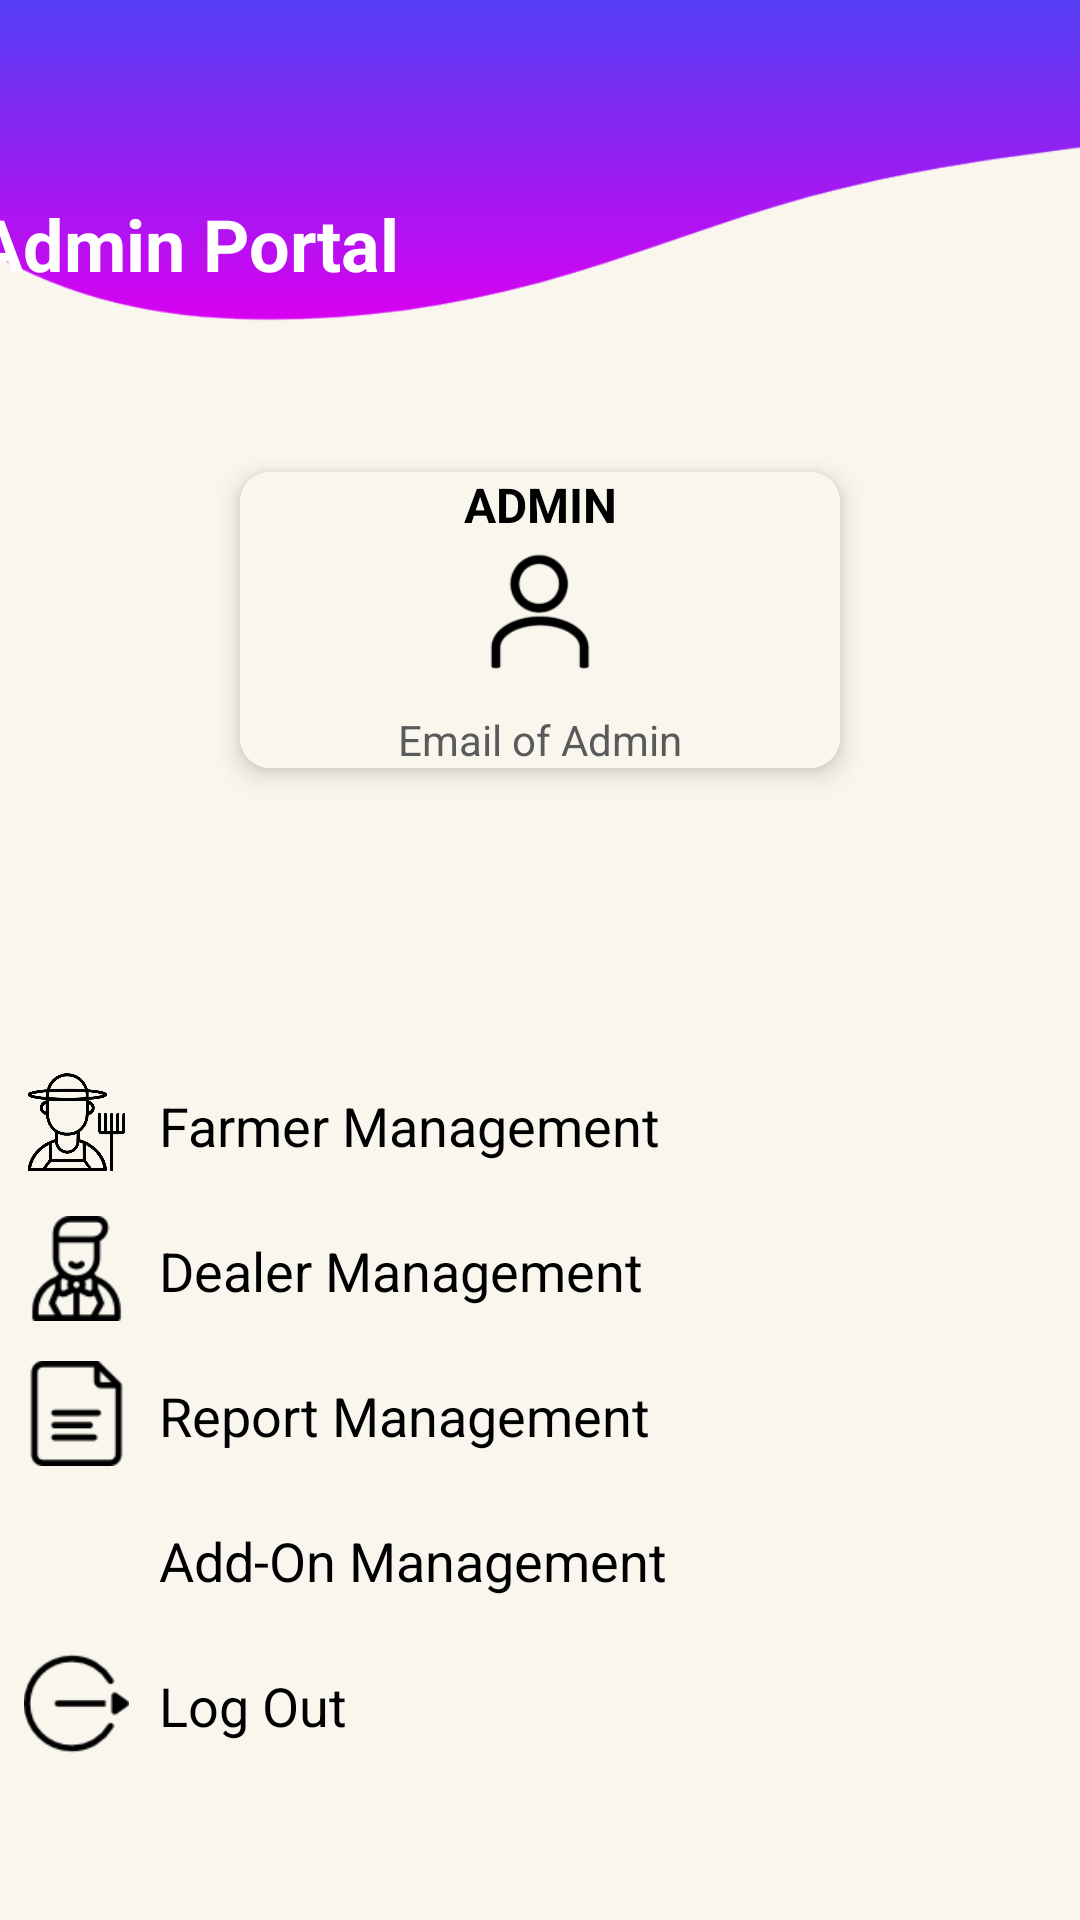

Screen size 1080 x 1920. Icon name, then its box in pixels as (x1, y1, x2, y2):
user: (491, 554, 590, 669)
